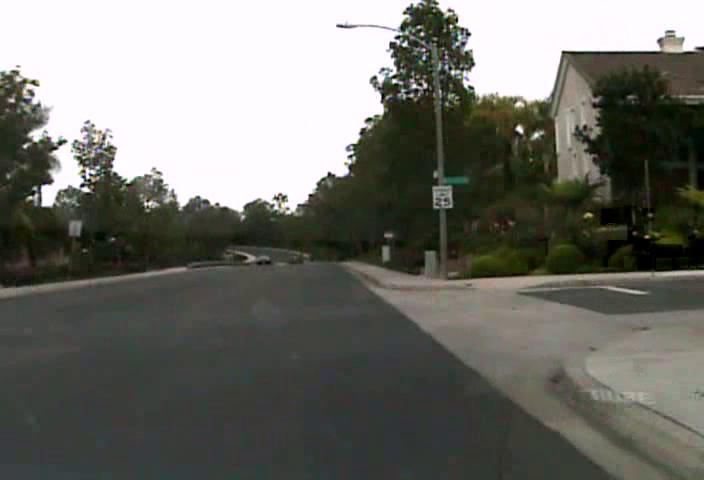speedLimit25: (431, 183, 453, 209)
